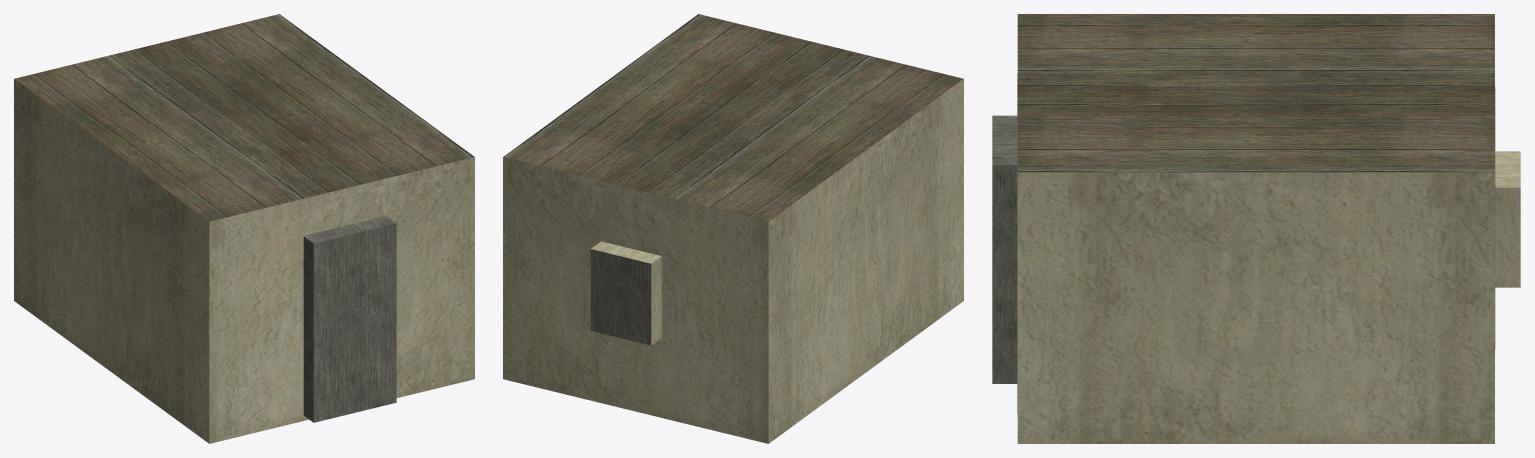
File: Room1.glb
3 renders of one model, left to right at view 1: azimuth 30°, elevation 25°; view 2: azimuth 150°, elevation 25°; view 3: azimuth 270°, elevation 25°, orthographic. The views are drawn at different scales.
Visible parts, largest first — view 1: Room1; view 2: Room1; view 3: Room1.
Boxes of the visible parts, left/top/right/bottom form: Room1: left=14, top=14, right=474, bottom=443; Room1: left=503, top=14, right=963, bottom=443; Room1: left=992, top=14, right=1520, bottom=443.
Size of the model in its own units: 3.13 by 2.51 by 4.42.
4 materials, 4 textured.
